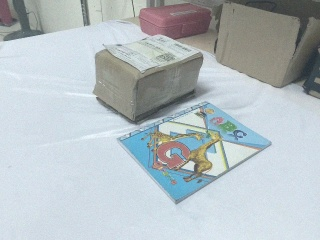book: (112, 96, 273, 206)
box: (94, 35, 202, 123), (215, 1, 320, 89)
